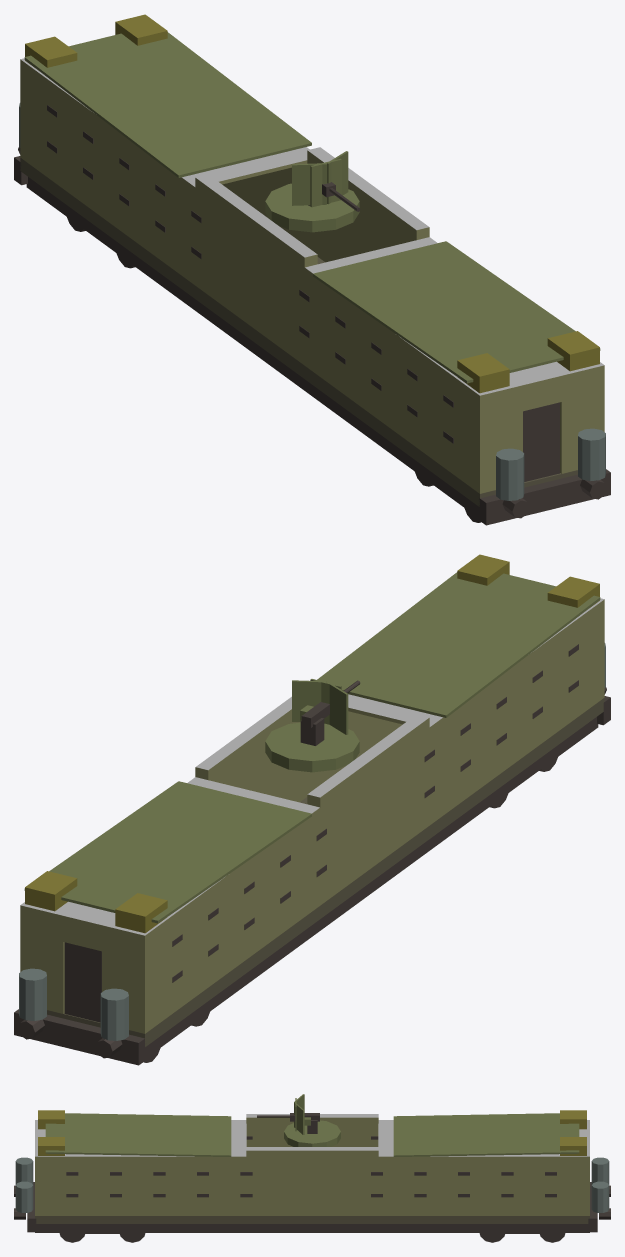
File: SM_R3_VagonBlindado_v4_Camuflado_LOD0.fbx
3 views of the same model, one above another, from view 1: azimuth 30°, elevation 25°; view 2: azimuth 150°, elevation 25°; view 3: azimuth 270°, elevation 25° (orthographic). The views are drawn at different scales.
Visible parts, largest first — view 1: SM_vagon_blindado_v4_LOD0, Torre; view 2: SM_vagon_blindado_v4_LOD0, Torre; view 3: SM_vagon_blindado_v4_LOD0, Torre.
Part boxes in pixels (x1,y1,x2,y2): SM_vagon_blindado_v4_LOD0: (14,14,610,525); Torre: (265,151,360,232); SM_vagon_blindado_v4_LOD0: (14,554,610,1065); Torre: (265,679,360,772); SM_vagon_blindado_v4_LOD0: (14,1110,610,1242); Torre: (257,1094,340,1146).
Bounding box in the file's own units: 3.1 × 4.75 × 19.9.
